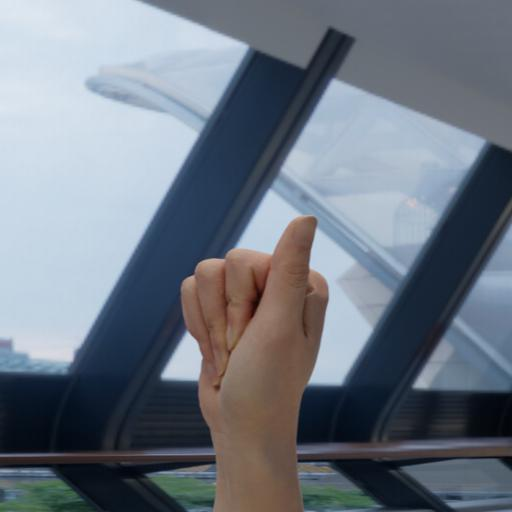A: (162, 190, 337, 431)
